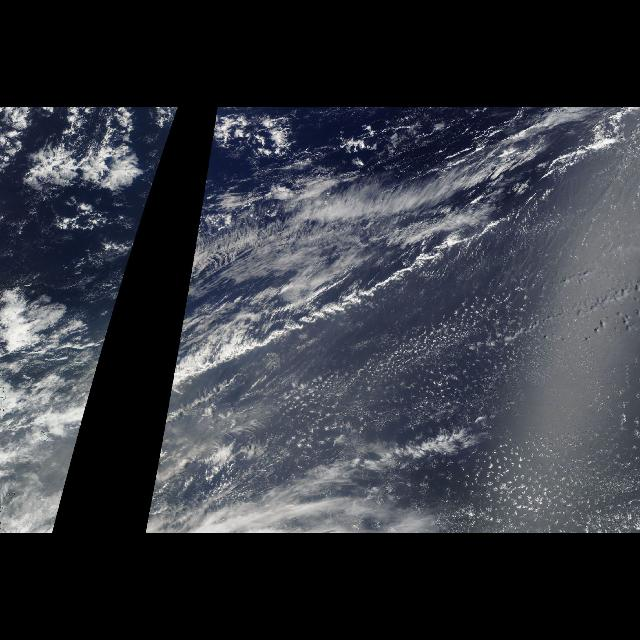Sugar: (288, 235, 640, 533)
